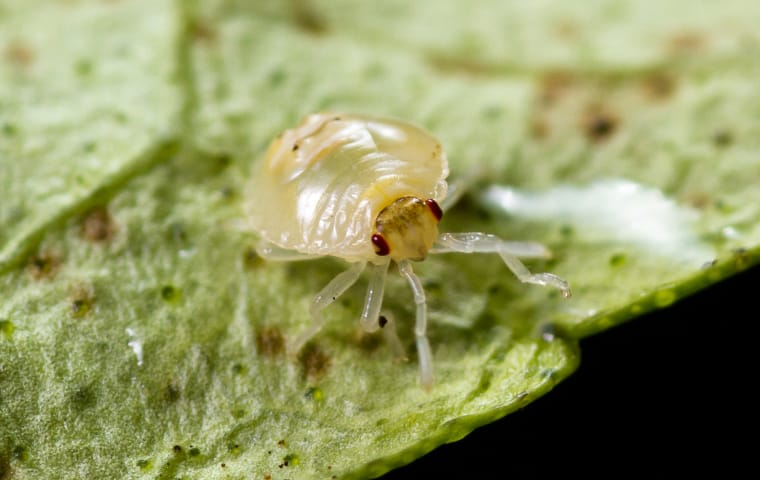Mites: (250, 105, 553, 403)
